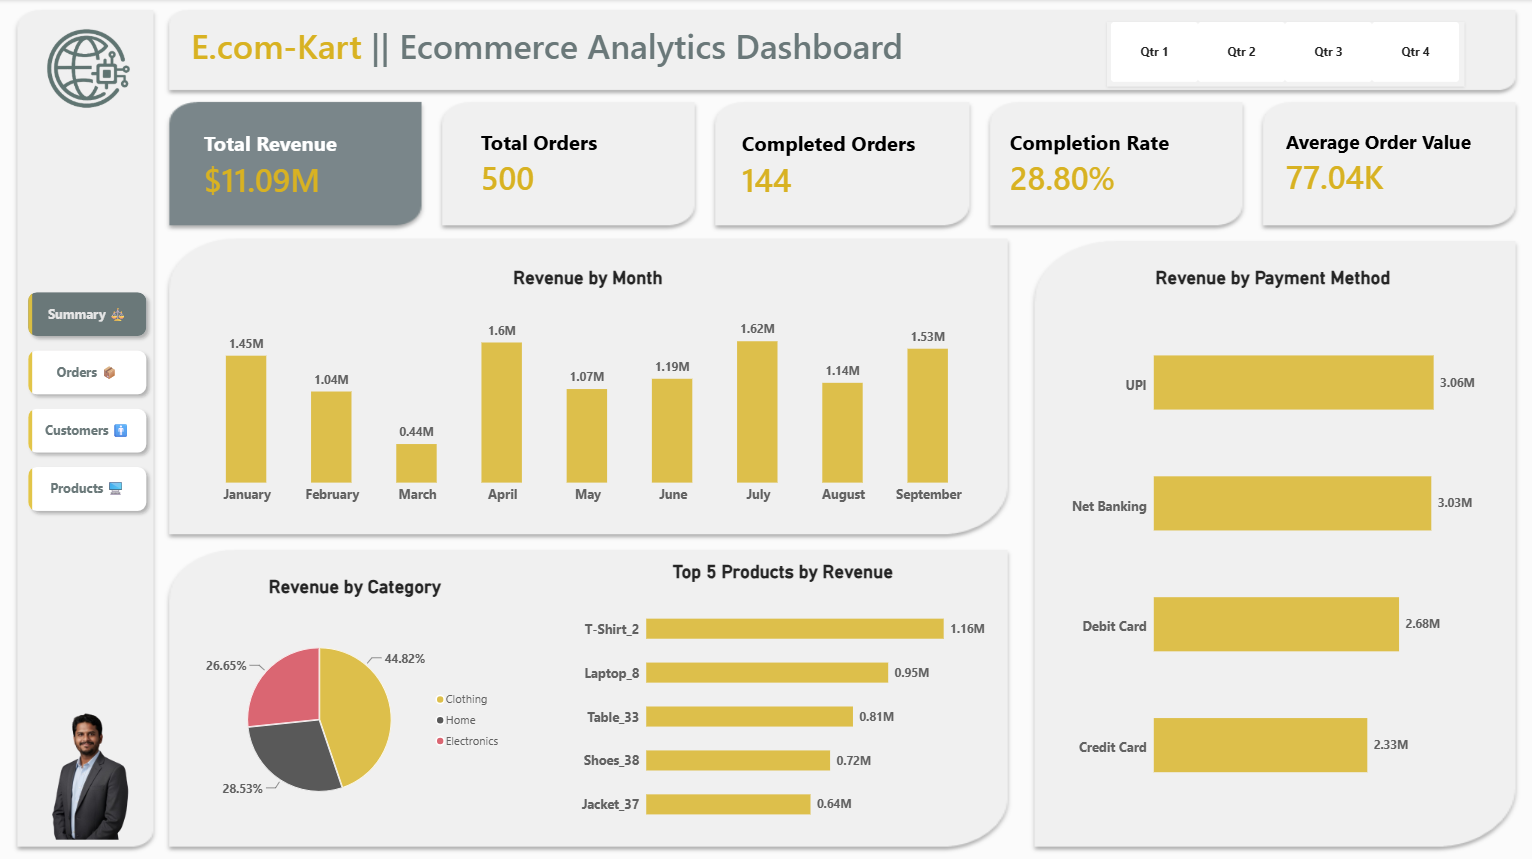

Layout of this report page (visuals, bound fields, positions):
{"tool":"powerbi","page":{"name":"Summary ⚖️","canvas":[1920,1080],"ordinal":0},"visuals":[{"type":"image","box":[17.5,16.2,184.5,146.8],"z":0},{"type":"image","box":[26.9,878,167,175.1],"z":1000},{"type":"pageNavigator","box":[26.9,358.2,167,293.6],"z":2000},{"type":"textbox","box":[239.7,28.3,941.3,61.9],"z":3000},{"type":"cardVisual","fields":{"Data":["_Measures.Total Revenue"]},"box":[239.7,141.4,263.9,133.3],"z":4000},{"type":"cardVisual","fields":{"Data":["_Measures.Total Orders"]},"box":[585.8,141.4,255.9,129.3],"z":5000},{"type":"cardVisual","fields":{"Data":["_Measures.Completed Orders"]},"box":[913,141.4,278.8,133.3],"z":6000},{"type":"cardVisual","fields":{"Data":["_Measures.Completion Rate"]},"box":[1249.7,141.4,274.7,129.3],"z":7000},{"type":"cardVisual","fields":{"Data":["_Measures.Average Order Value"]},"box":[1594.4,141.4,269.3,129.3],"z":8000},{"type":"columnChart","title":"Revenue by Month","fields":{"Category":["fct_sales.order_date.Variation.Date Hierarchy.Month","fct_sales.order_date.Variation.Date Hierarchy.Day"],"Y":["Sum(fct_sales.revenue)"]},"box":[224.9,321.8,1024.8,329.9],"z":9000},{"type":"barChart","title":"Revenue by Payment Method","fields":{"Category":["fct_sales.payment_method"],"Y":["Sum(fct_sales.revenue)"]},"box":[1325.1,321.8,538.7,731.2],"z":10000},{"type":"pieChart","title":"Revenue by Category","fields":{"Category":["fct_sales.category"],"Y":["Sum(fct_sales.revenue)"]},"box":[239.7,709.7,410.7,347.4],"z":11000},{"type":"barChart","title":"Top 5 Products by Revenue","fields":{"Category":["fct_sales.product_name"],"Y":["Sum(fct_sales.revenue)"]},"box":[711,690.8,538.7,371.7],"z":12000},{"type":"advancedSlicerVisual","fields":{"Values":["monthly_sales.sales_month.Variation.Date Hierarchy.Quarter"]},"box":[1387,28.3,448.4,80.8],"z":13000}]}

Visuals, with their boxes in screenshot pixels (x1, y1, x2, y2), scaled from the page's 1920x1080 canvas onto the 1532x859 screenshot:
image: {"x1": 14, "y1": 13, "x2": 161, "y2": 130}
image: {"x1": 21, "y1": 698, "x2": 155, "y2": 838}
pageNavigator: {"x1": 21, "y1": 285, "x2": 155, "y2": 518}
textbox: {"x1": 191, "y1": 23, "x2": 942, "y2": 72}
cardVisual - _Measures.Total Revenue: {"x1": 191, "y1": 112, "x2": 402, "y2": 218}
cardVisual - _Measures.Total Orders: {"x1": 467, "y1": 112, "x2": 672, "y2": 215}
cardVisual - _Measures.Completed Orders: {"x1": 728, "y1": 112, "x2": 951, "y2": 218}
cardVisual - _Measures.Completion Rate: {"x1": 997, "y1": 112, "x2": 1216, "y2": 215}
cardVisual - _Measures.Average Order Value: {"x1": 1272, "y1": 112, "x2": 1487, "y2": 215}
"Revenue by Month" columnChart: {"x1": 179, "y1": 256, "x2": 997, "y2": 518}
"Revenue by Payment Method" barChart: {"x1": 1057, "y1": 256, "x2": 1487, "y2": 838}
"Revenue by Category" pieChart: {"x1": 191, "y1": 564, "x2": 519, "y2": 841}
"Top 5 Products by Revenue" barChart: {"x1": 567, "y1": 549, "x2": 997, "y2": 845}
advancedSlicerVisual - monthly_sales.sales_month.Variation.Date Hierarchy.Quarter: {"x1": 1107, "y1": 23, "x2": 1464, "y2": 87}
